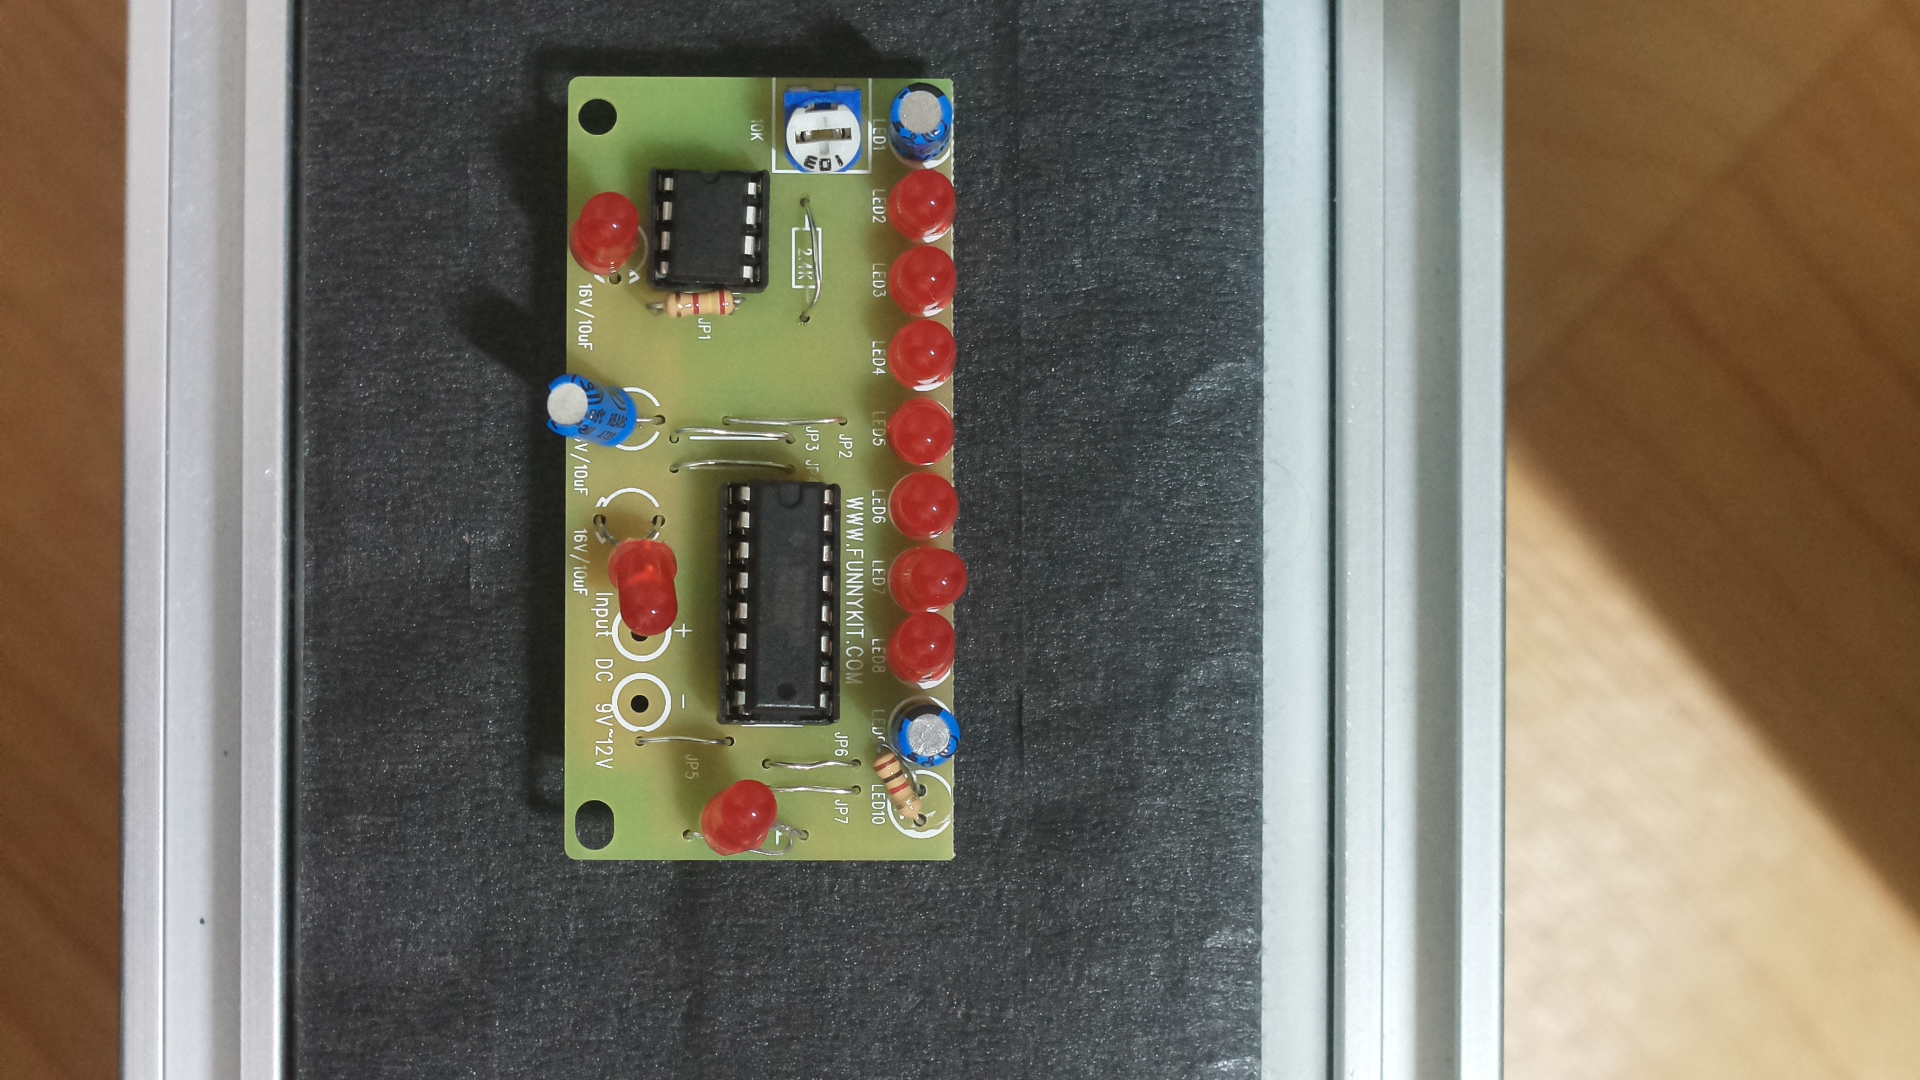B_Misordered: (538, 63, 967, 874)
